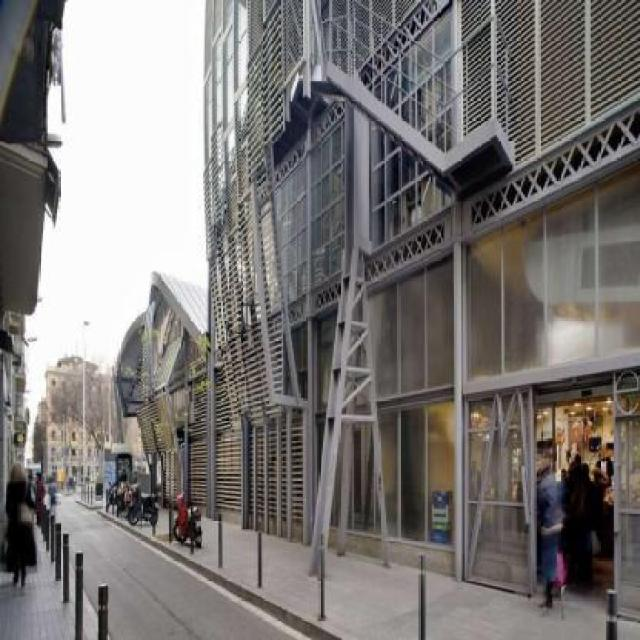Person: (469, 445, 614, 613), (4, 462, 33, 584), (34, 465, 48, 530)
